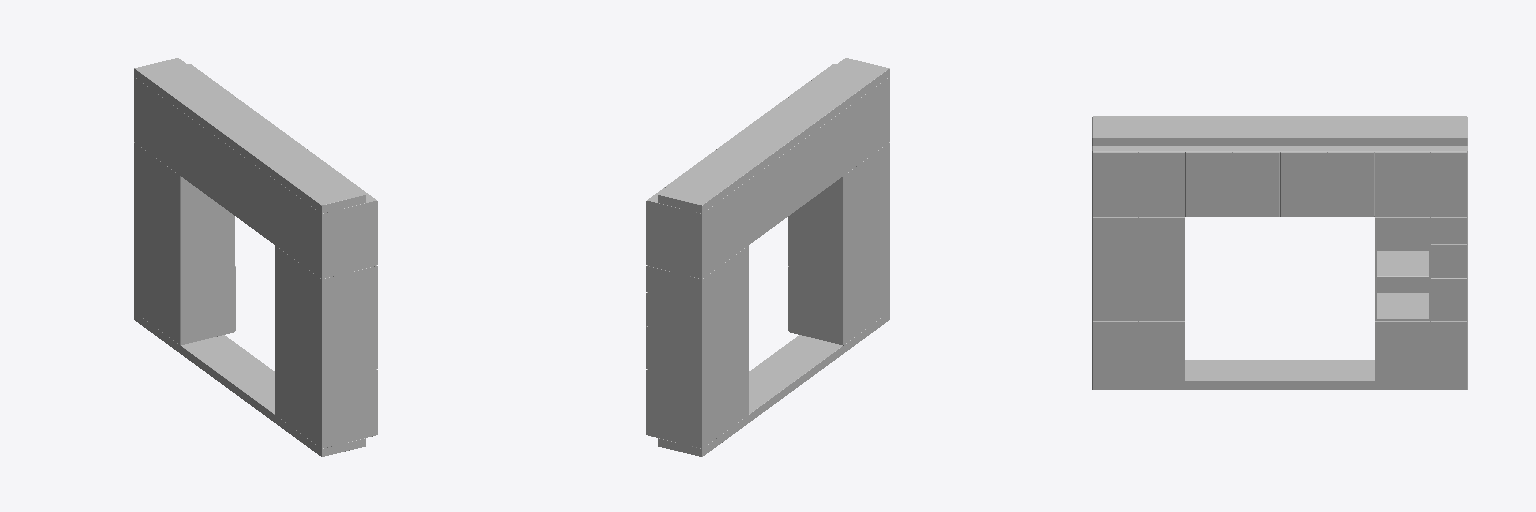
Rendered from cookingfront.obj.
The picture shows the model from 3 angles: view 1: azimuth 30°, elevation 25°; view 2: azimuth 150°, elevation 25°; view 3: azimuth 270°, elevation 25°; orthographic projection.
Visible parts, largest first — view 1: Cube.019_Cube.038, Cube.021_Cube.039; view 2: Cube.019_Cube.038, Cube.021_Cube.039; view 3: Cube.019_Cube.038, Cube.021_Cube.039.
Boxes of the visible parts, box(x1,y1,x2,y2) form: Cube.019_Cube.038: box(134, 58, 377, 456); Cube.021_Cube.039: box(134, 64, 377, 278); Cube.019_Cube.038: box(646, 58, 889, 456); Cube.021_Cube.039: box(646, 64, 889, 278); Cube.019_Cube.038: box(1092, 116, 1467, 389); Cube.021_Cube.039: box(1092, 146, 1467, 216).
Bounding box in the file's own units: 0.7 × 3 × 4.05.